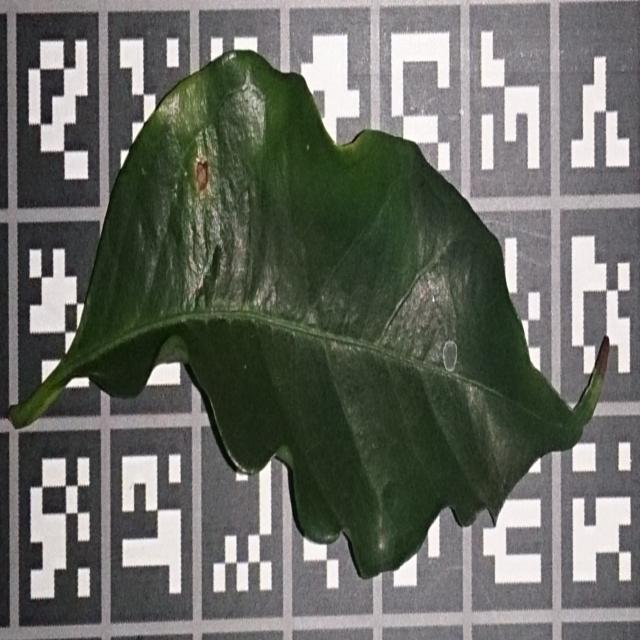Enfermedad-Mancha-de-hierro: (13, 45, 610, 582)
